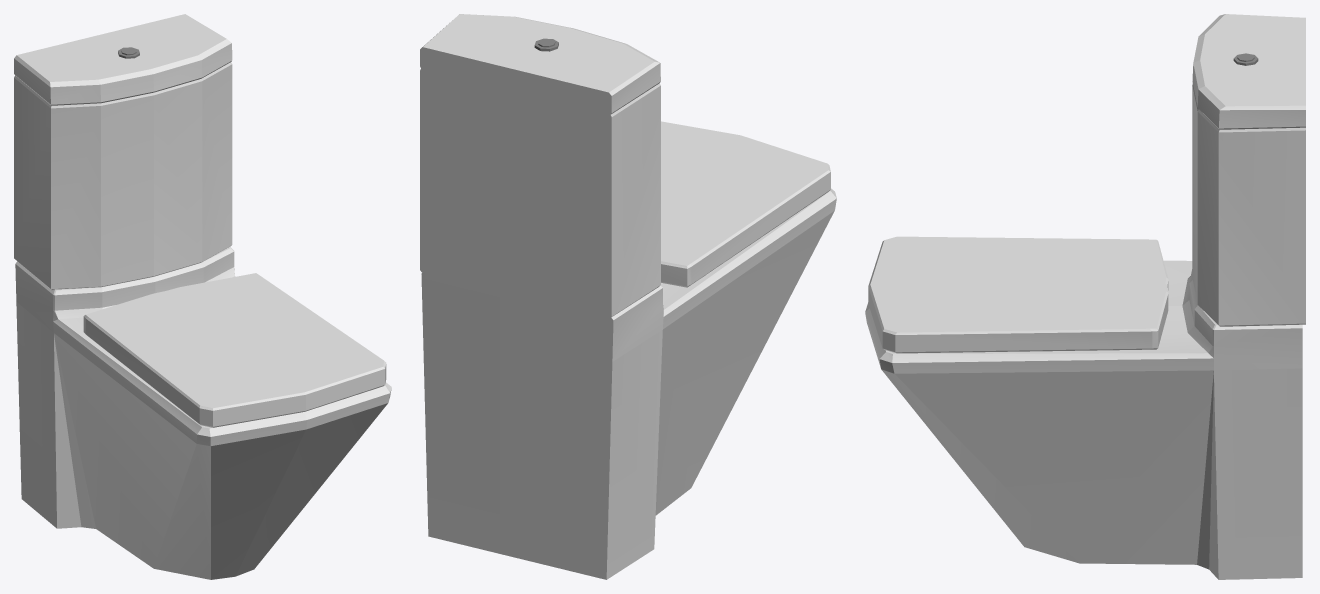
File: Toilet.glb
The picture shows the model from 3 angles, left to right: view 1: azimuth 30°, elevation 25°; view 2: azimuth 150°, elevation 25°; view 3: azimuth 270°, elevation 25°; orthographic projection. The views are drawn at different scales.
Parts seen in each view (by area): view 1: Toilet; view 2: Toilet; view 3: Toilet.
Part boxes in pixels (x1,y1,x2,y2): Toilet: (14, 14, 391, 579); Toilet: (420, 14, 836, 579); Toilet: (865, 14, 1305, 579).
Size of the model in its own units: 0.2522 by 0.5542 by 0.4625.
Materials: 1 (1 with a texture image).
